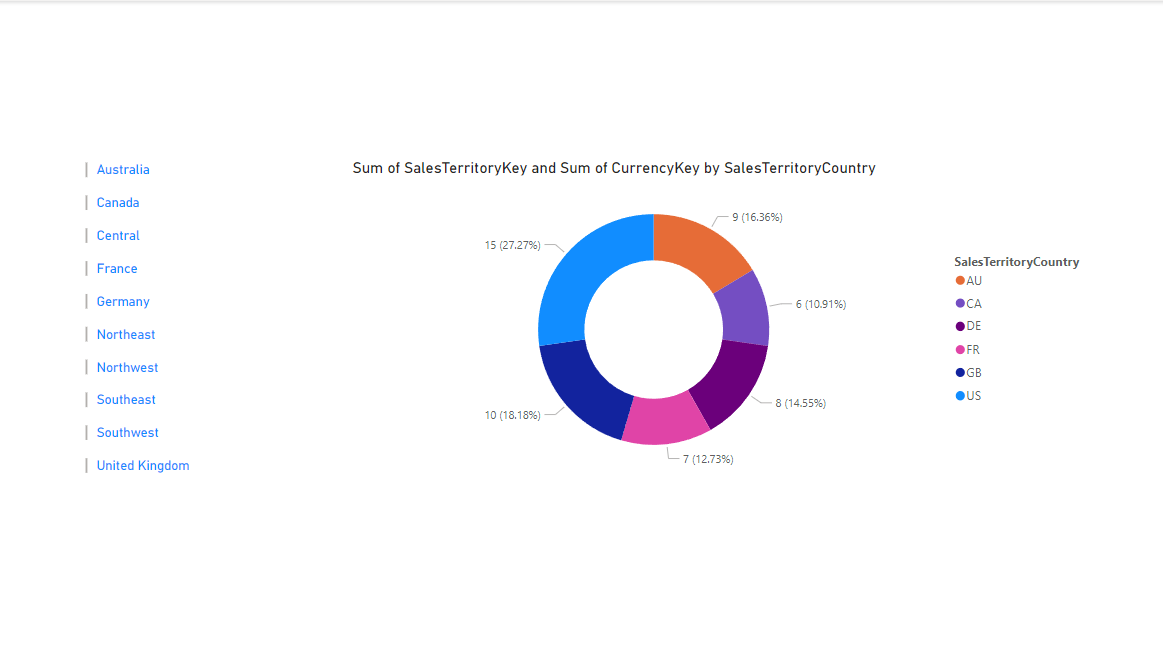

What the dashboard file says about the page in this screenshot:
{"tool":"powerbi","page":{"name":"Page 2","canvas":[1280,720],"ordinal":1},"visuals":[{"type":"multiRowCard","fields":{"Values":["DimSalesTerritory.SalesTerritoryRegion"]},"box":[89.5,172.5,280.1,378],"z":0},{"type":"donutChart","fields":{"Category":["DimSalesTerritory.SalesTerritoryCountry"],"Y":["Sum(DimSalesTerritory.SalesTerritoryKey)","Sum(DimSalesTerritory.SalesTerritoryAlternateKey)"]},"box":[413.2,181,660.2,356.7],"z":1}]}

Visuals, with their boxes in screenshot pixels (x1, y1, x2, y2), scaled from the page's 1280x720 canvas onto the 1163x657 screenshot:
multiRowCard - DimSalesTerritory.SalesTerritoryRegion: (x1=81, y1=157, x2=336, y2=502)
donutChart - DimSalesTerritory.SalesTerritoryCountry x Sum(DimSalesTerritory.SalesTerritoryKey): (x1=375, y1=165, x2=975, y2=491)
